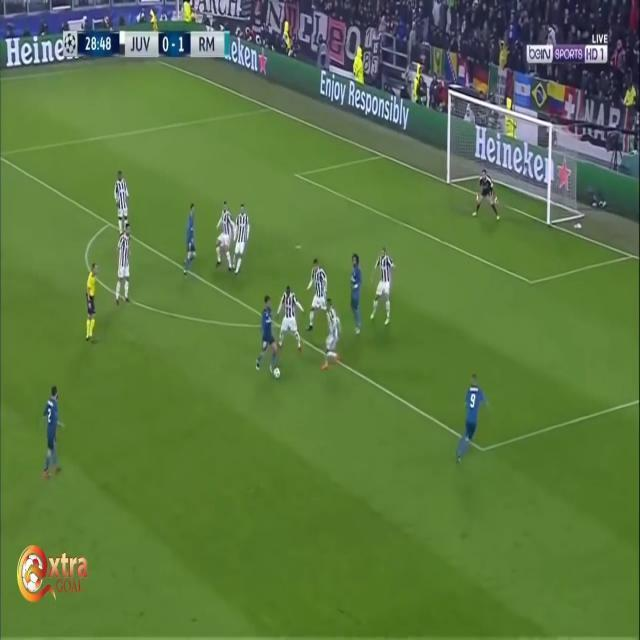ball: (212, 196, 233, 280)
goalkeeper: (475, 159, 500, 225)
player: (39, 380, 64, 487), (458, 372, 483, 469), (372, 241, 395, 326), (281, 283, 306, 359), (257, 293, 279, 377), (307, 255, 330, 331), (116, 223, 137, 306), (347, 251, 367, 335), (182, 201, 202, 283), (321, 301, 344, 372), (113, 168, 133, 235), (235, 200, 252, 272)
referee: (81, 263, 102, 345)
